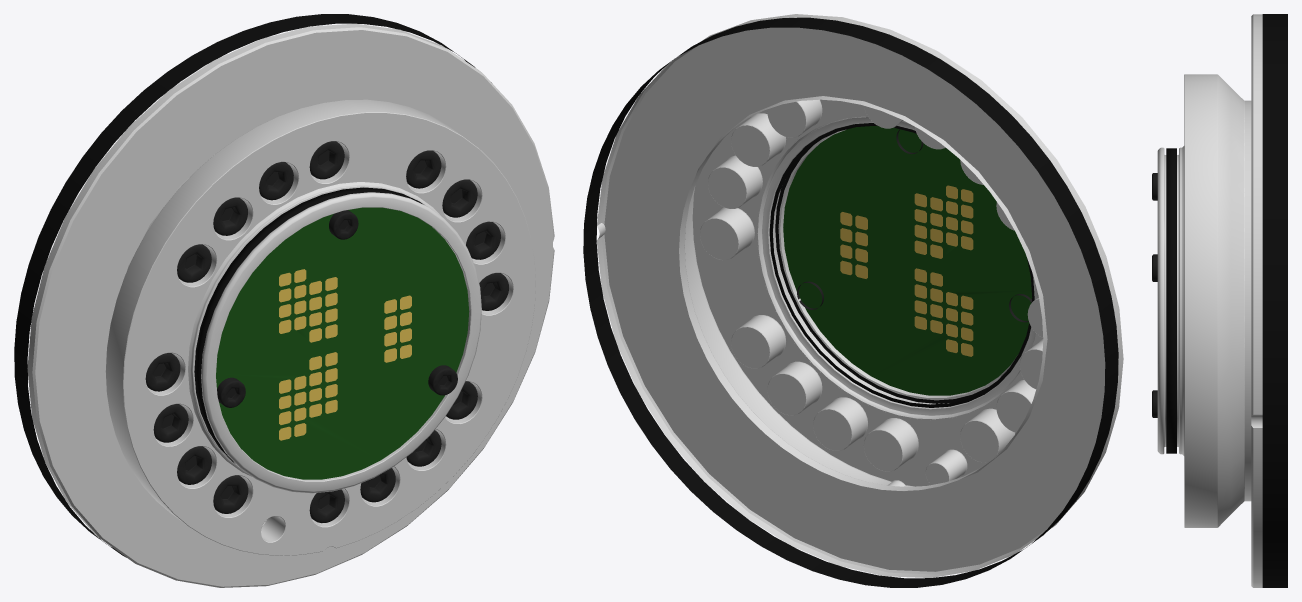
File: D86-H-distal.glb
The picture shows the model from 3 angles, left to right: view 1: azimuth 30°, elevation 25°; view 2: azimuth 150°, elevation 25°; view 3: azimuth 270°, elevation 25°; orthographic projection. The views are drawn at different scales.
Parts seen in each view (by area): view 1: D86-H-distal.001; view 2: D86-H-distal.001; view 3: D86-H-distal.001.
Boxes of the visible parts, x1=… form: D86-H-distal.001: x1=14, y1=14, x2=554, y2=587; D86-H-distal.001: x1=583, y1=14, x2=1123, y2=587; D86-H-distal.001: x1=1152, y1=14, x2=1287, y2=587.
Size of the model in its own units: 0.086 by 0.086 by 0.0203.
